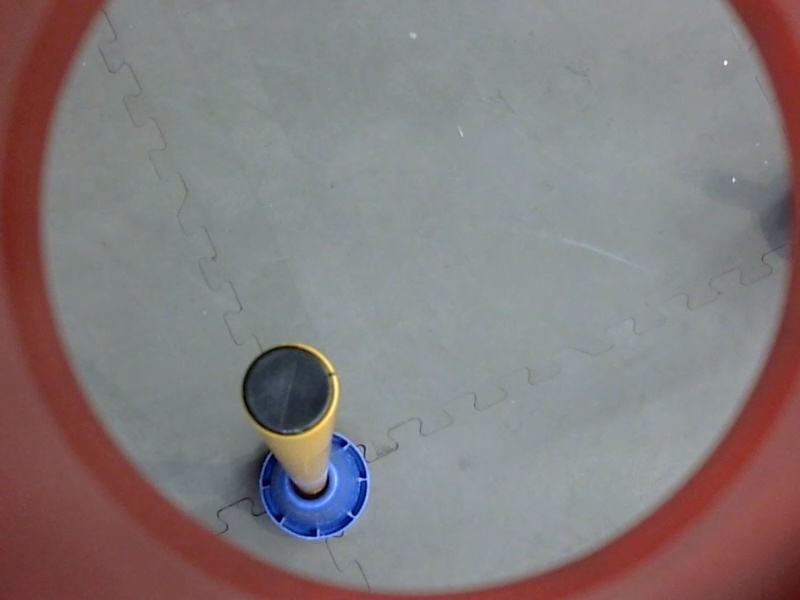tip: (232, 334, 345, 446)
